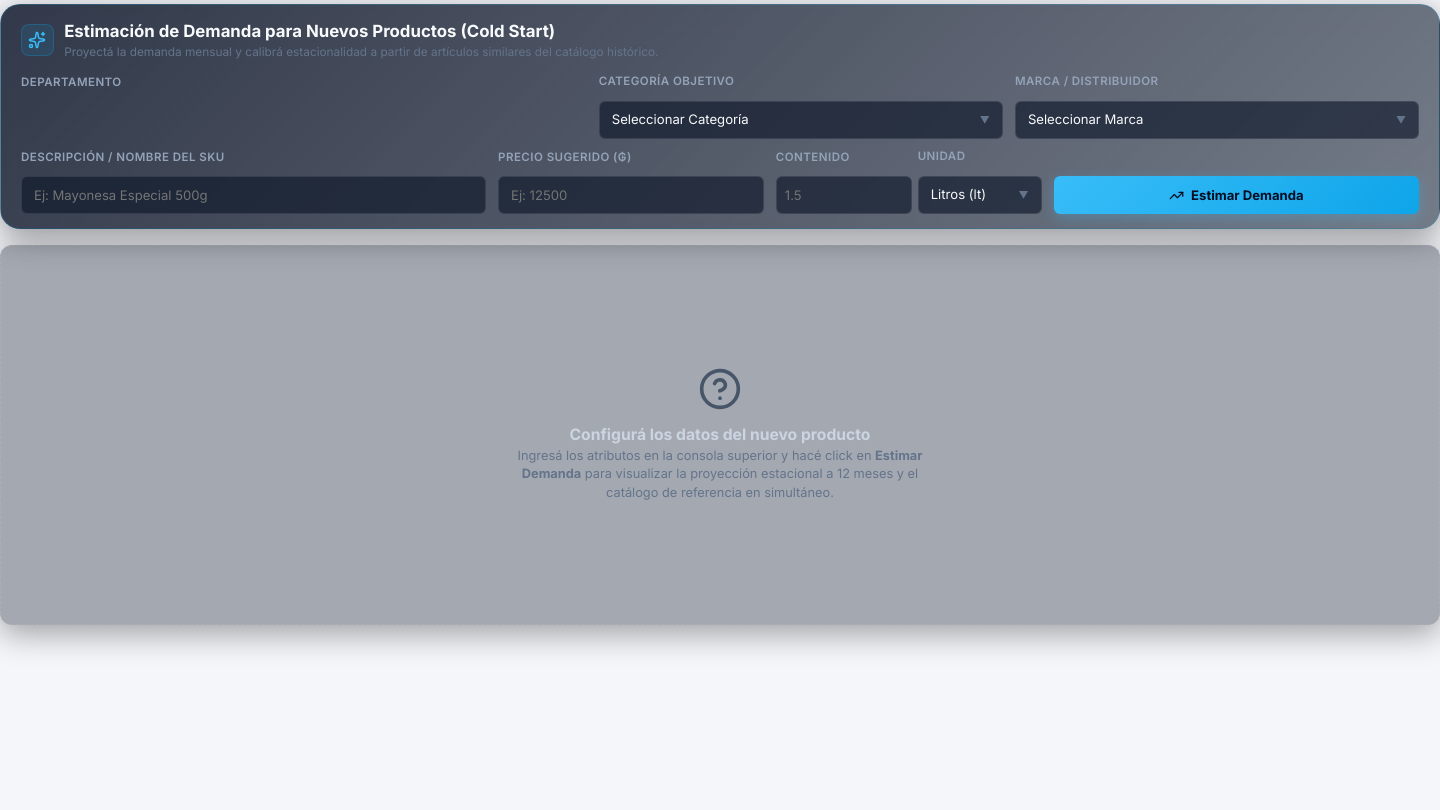
ColdStartView › validaciones del formulario › exige el departamento comercial cuando el catalogo no trae ninguno
Check: the button "Estimar Demanda" is shown, box [1054, 176, 1419, 214]
Type "Gaseosa Cola 2L" into the field with placeholder "Ej: Mayonesa Especial 500g".
click(254, 195); type("Gaseosa Cola 2L")  # box [21, 176, 486, 214]
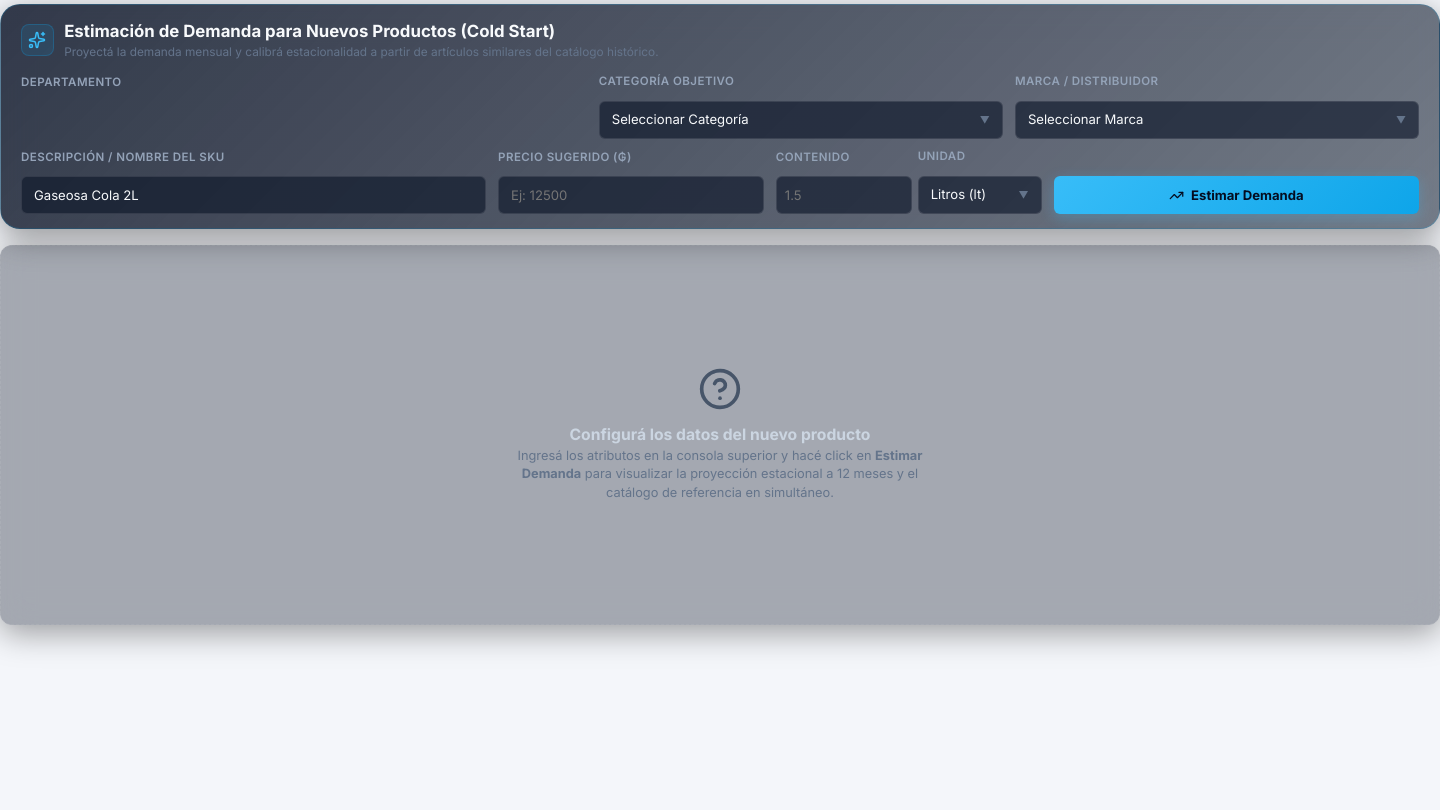
Submit the form named "estimar demanda", box [21, 74, 1419, 214]
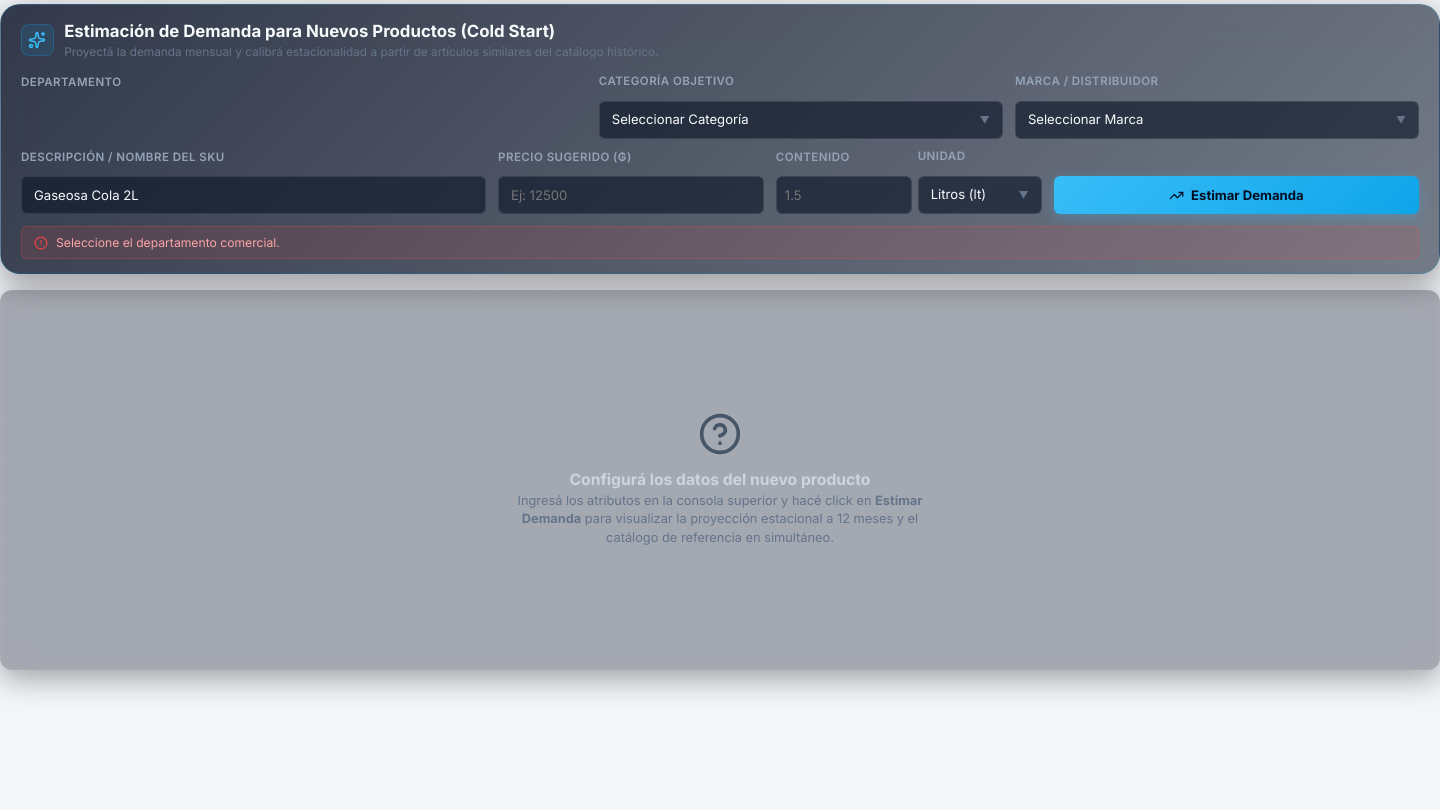
Check: the text "Seleccione el departamento comercial." is shown, box [56, 234, 280, 252]
